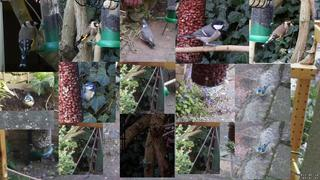blue tit: (78, 82, 96, 107), (256, 84, 271, 103), (256, 142, 271, 160), (22, 92, 34, 110)
goldfinch: (18, 20, 39, 68), (261, 20, 294, 49), (74, 20, 100, 47)
great tit: (178, 20, 229, 51)
wood pigeon: (141, 20, 156, 47)
